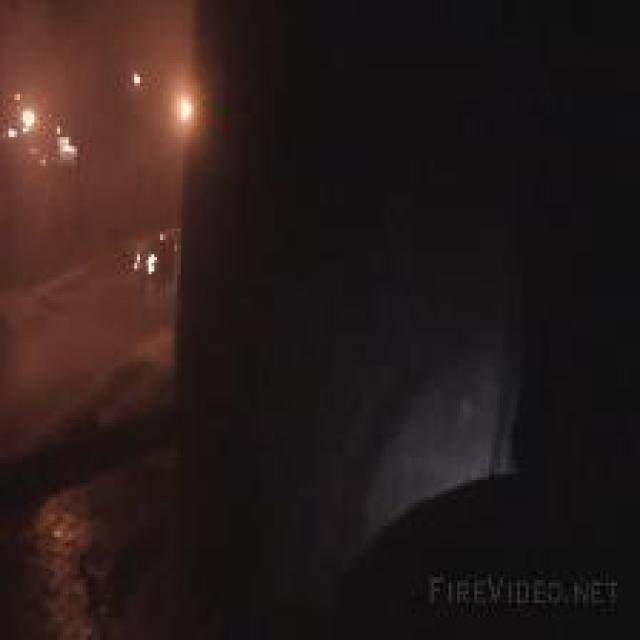other: (0, 79, 109, 190), (115, 222, 160, 288), (167, 87, 205, 124)
